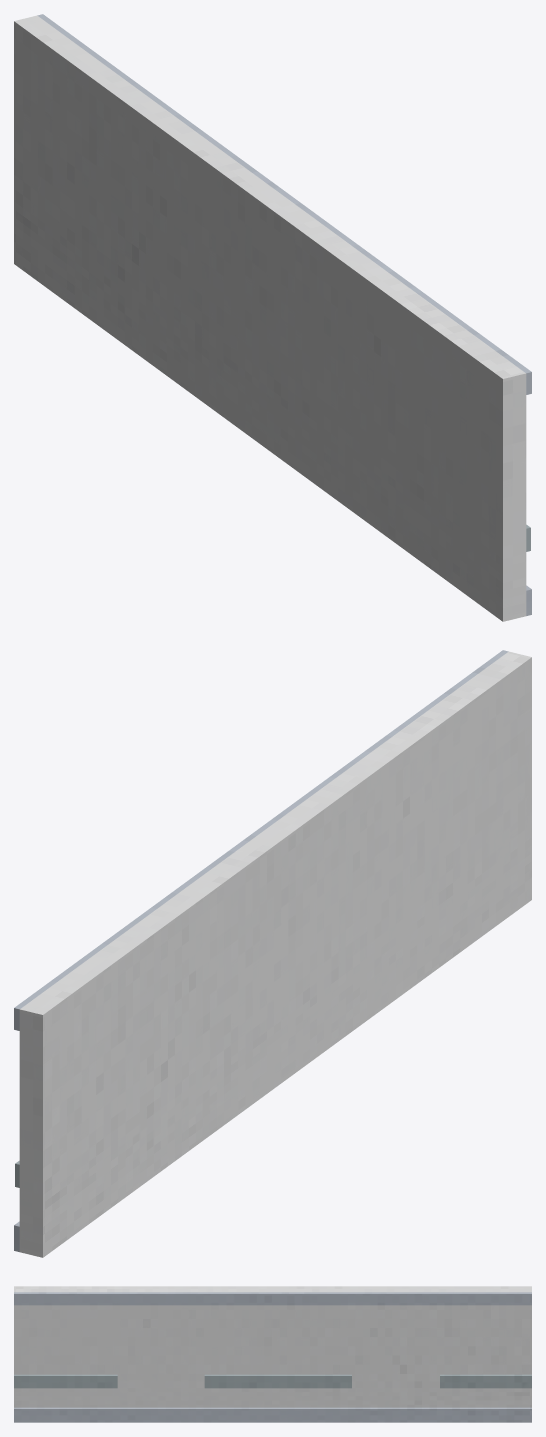
File: WallTemplate1.fbx
3 views of the same model, one above another, from view 1: azimuth 30°, elevation 25°; view 2: azimuth 150°, elevation 25°; view 3: azimuth 270°, elevation 25° (orthographic). The views are drawn at different scales.
Parts seen in each view (by area): view 1: WallTemplateV1; view 2: WallTemplateV1; view 3: WallTemplateV1.
Part boxes in pixels (<box>): WallTemplateV1: <box>14,14,531,621</box>; WallTemplateV1: <box>14,650,531,1257</box>; WallTemplateV1: <box>14,1286,531,1422</box>.
Size of the model in its own units: 250 by 2000 by 7300.
